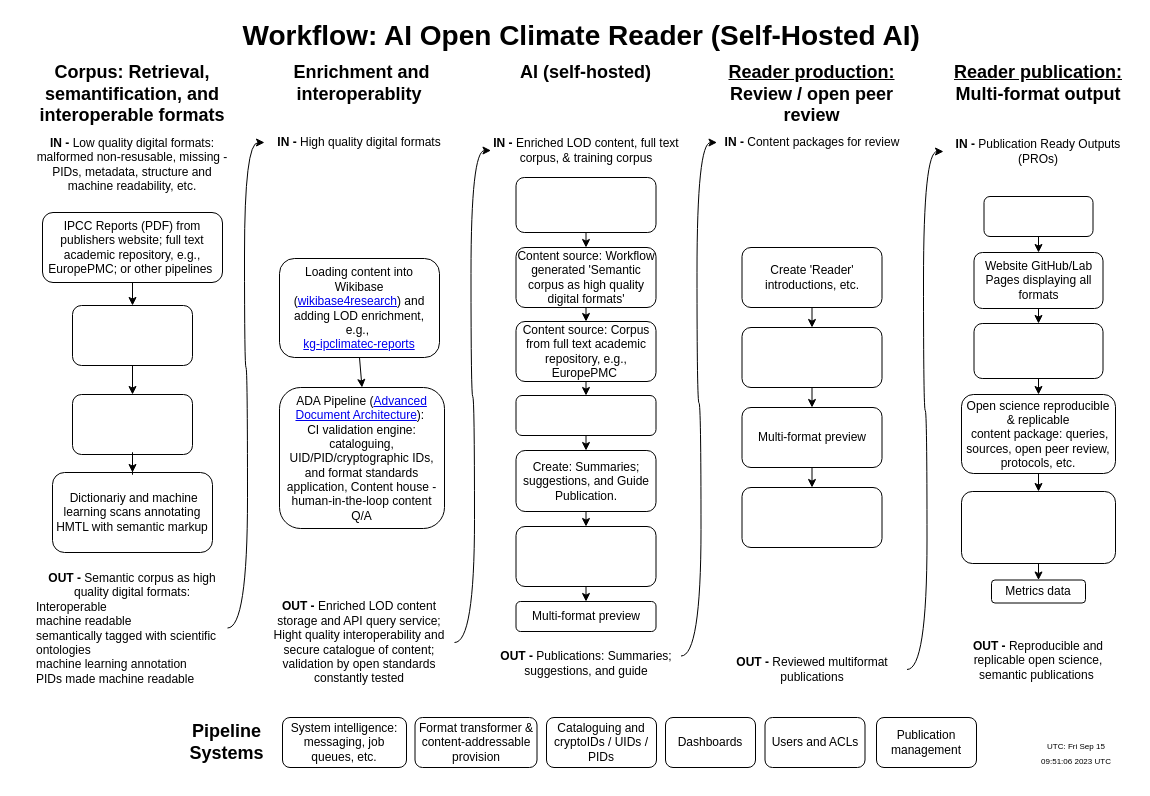
Image size: 1150x796. Some labels were removed from this diagram. The shapes that lost their labels are listed below. From the top down, each one's centre as x and y in pixels, then its label:
point 585,204: AI Engine (Self-Hosted) e.g., falcon-7b , falcon-40b-v2 , vicuna-33b-v1.3
point 1038,216: GitHub/Lab repository deposit
point 132,335: py4ami processess PDFs (if needed)
point 1038,350: LOD access page i.e: linking to sources and all outputs, and reuse
point 811,357: Review and open peer review
point 132,424: Converted to Scholarly HTML
point 585,415: Training corpus source
point 811,517: Multi-format publication creation
point 1038,527: Publication PID assignment, institutional deposits, & multi-channel distribution
point 585,556: Enable manual tagging of content to add to corpus
